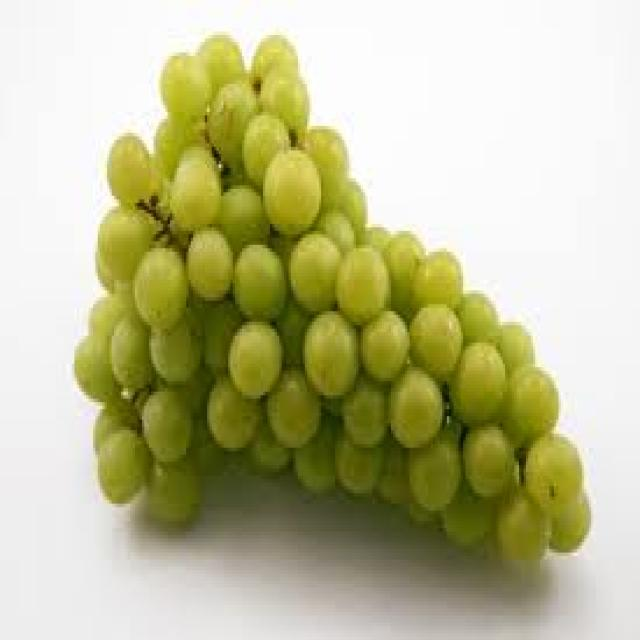geapes: (49, 14, 624, 636)
